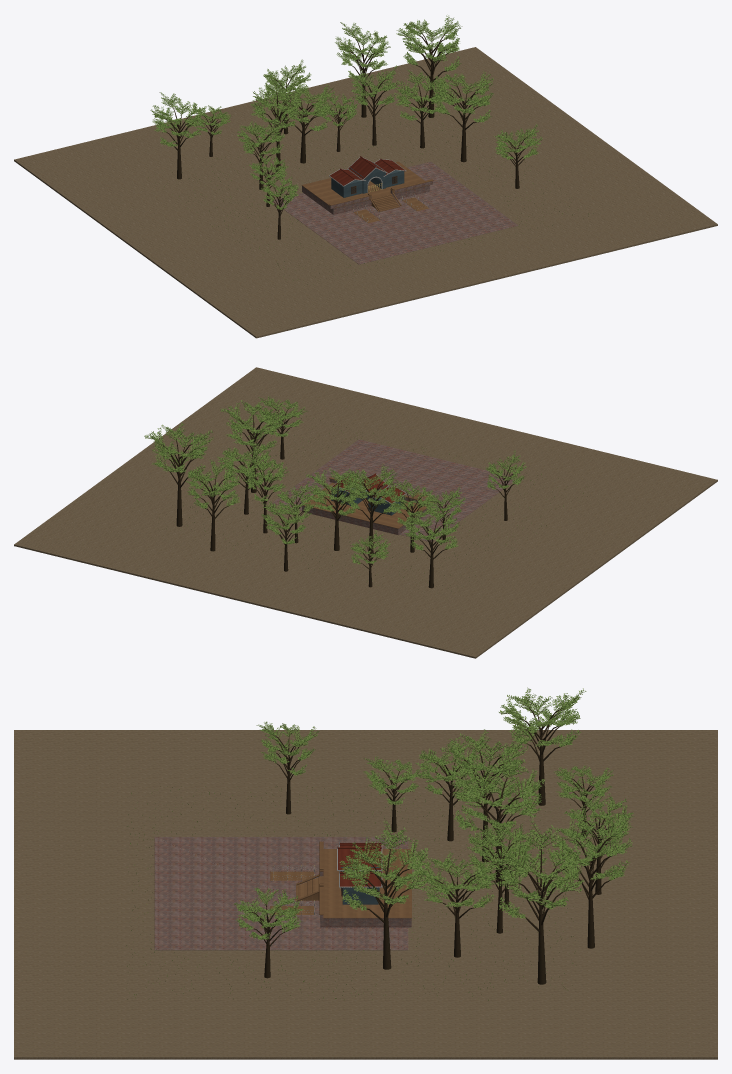
The model's file is guardians.glb.
3 renders of one model, top to bottom at view 1: azimuth 30°, elevation 25°; view 2: azimuth 150°, elevation 25°; view 3: azimuth 270°, elevation 25°, orthographic. The views are drawn at different scales.
Parts seen in each view (by area): view 1: Earth beneath the courtyard, Brick courtyard, Ochre lime mortar · architectural surfaces, Broadleaf tree.010, Broadleaf tree.006, Broadleaf tree.013, Broadleaf tree.009, Broadleaf tree.001, Broadleaf tree.002, Broadleaf tree.005, Broadleaf tree.004, Broadleaf tree (+9 smaller); view 2: Earth beneath the courtyard, Brick courtyard, Broadleaf tree.010, Broadleaf tree.006, Broadleaf tree.013, Broadleaf tree.002, Broadleaf tree.001, Broadleaf tree.009, Ochre lime mortar · architectural surfaces, Broadleaf tree.004, Broadleaf tree.005, Broadleaf tree (+8 smaller); view 3: Earth beneath the courtyard, Brick courtyard, Broadleaf tree.010, Broadleaf tree.006, Ochre lime mortar · architectural surfaces, Broadleaf tree.002, Broadleaf tree.009, Broadleaf tree.013, Broadleaf tree.005, Broadleaf tree.001, Broadleaf tree.008, Broadleaf tree.004 (+9 smaller).
Boxes of the visible parts, left/top/right/bottom form: Earth beneath the courtyard: left=14, top=47, right=717, bottom=338; Brick courtyard: left=273, top=162, right=517, bottom=264; Ochre lime mortar · architectural surfaces: left=301, top=161, right=433, bottom=223; Broadleaf tree.010: left=396, top=15, right=462, bottom=117; Broadleaf tree.006: left=429, top=71, right=494, bottom=162; Broadleaf tree.013: left=335, top=22, right=390, bottom=117; Broadleaf tree.009: left=150, top=92, right=204, bottom=179; Broadleaf tree.001: left=250, top=74, right=305, bottom=173; Broadleaf tree.002: left=270, top=83, right=334, bottom=163; Broadleaf tree.005: left=395, top=69, right=449, bottom=148; Broadleaf tree.004: left=351, top=65, right=399, bottom=145; Broadleaf tree: left=237, top=120, right=286, bottom=189; Earth beneath the courtyard: left=14, top=367, right=717, bottom=658; Brick courtyard: left=272, top=439, right=517, bottom=541; Broadleaf tree.010: left=144, top=422, right=213, bottom=526; Broadleaf tree.006: left=220, top=399, right=288, bottom=492; Broadleaf tree.013: left=185, top=459, right=240, bottom=551; Broadleaf tree.002: left=306, top=468, right=369, bottom=550; Broadleaf tree.001: left=341, top=464, right=397, bottom=553; Broadleaf tree.009: left=402, top=506, right=459, bottom=588; Ochre lime mortar · architectural surfaces: left=303, top=477, right=433, bottom=528; Broadleaf tree.004: left=240, top=452, right=288, bottom=533; Broadleaf tree.005: left=217, top=442, right=273, bottom=514; Broadleaf tree: left=389, top=479, right=433, bottom=552; Earth beneath the courtyard: left=14, top=730, right=717, bottom=1059; Brick courtyard: left=154, top=837, right=408, bottom=950; Broadleaf tree.010: left=494, top=818, right=587, bottom=984; Broadleaf tree.006: left=339, top=820, right=431, bottom=969; Ochre lime mortar · architectural surfaces: left=270, top=841, right=411, bottom=918; Broadleaf tree.002: left=452, top=755, right=544, bottom=882; Broadleaf tree.009: left=499, top=687, right=586, bottom=805; Broadleaf tree.013: left=550, top=813, right=633, bottom=948; Broadleaf tree.005: left=414, top=851, right=502, bottom=957; Broadleaf tree.001: left=440, top=729, right=529, bottom=862; Broadleaf tree.008: left=233, top=887, right=303, bottom=978; Broadleaf tree.004: left=467, top=819, right=534, bottom=933.
Bounding box in the file's own units: 110 × 23.13 × 100.
14 materials, 8 textured.
